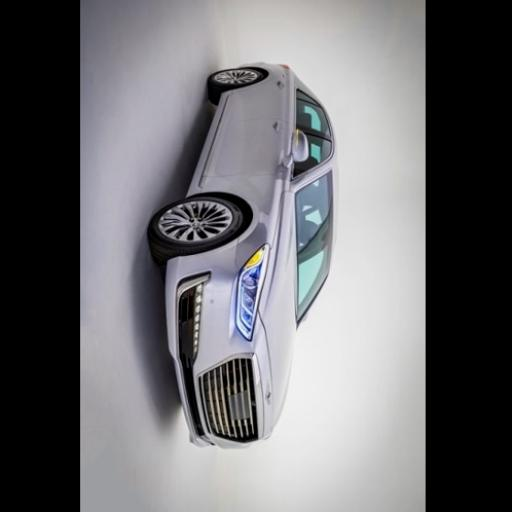sedan: (147, 65, 336, 449)
